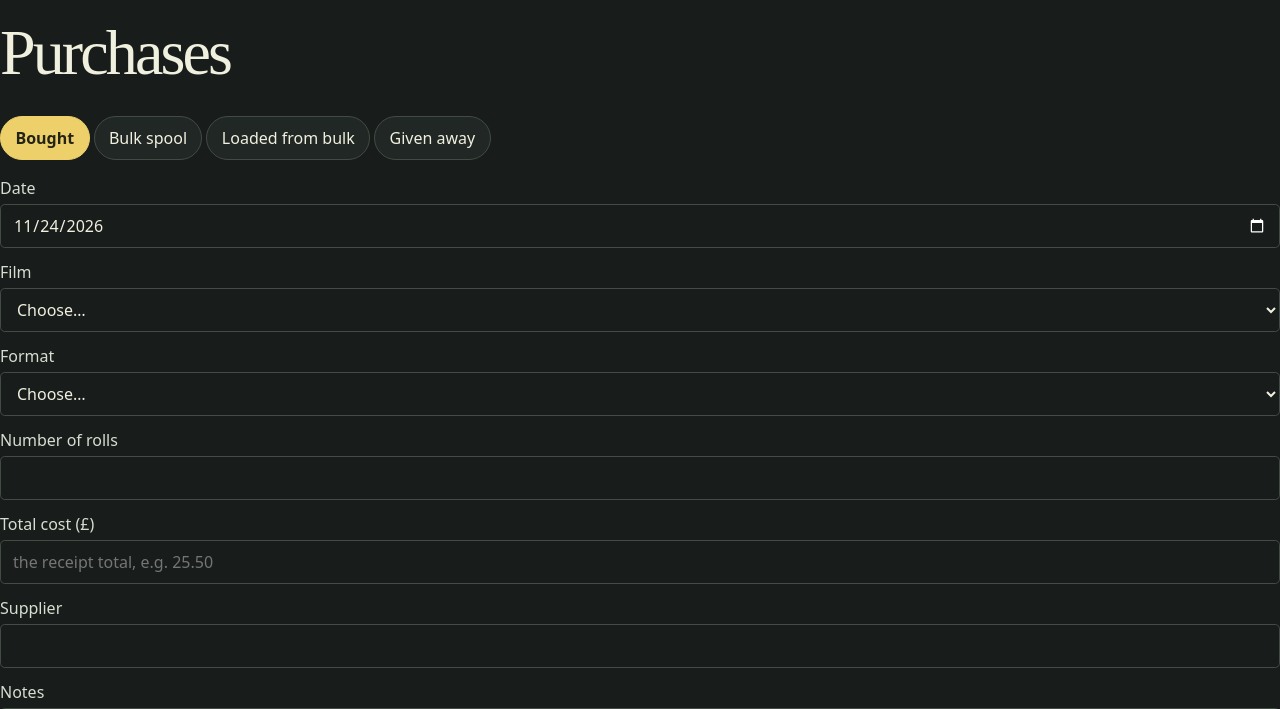
Scenario: an unpriced spool needs no price, but a bad price is refused
Click the tab "Bulk spool" at [148, 138], box [94,116,202,160]
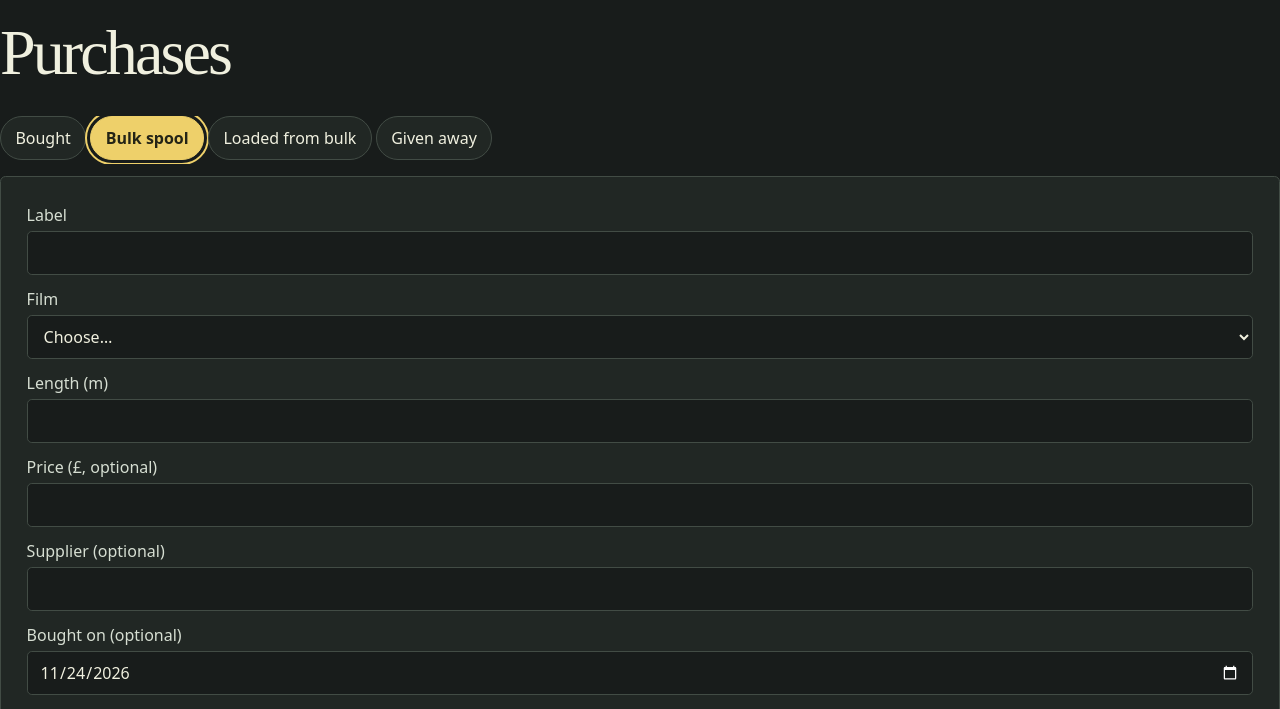
Type "Bulk 3" into the field labelled "Label" at [640, 253], box [27,231,1253,275]
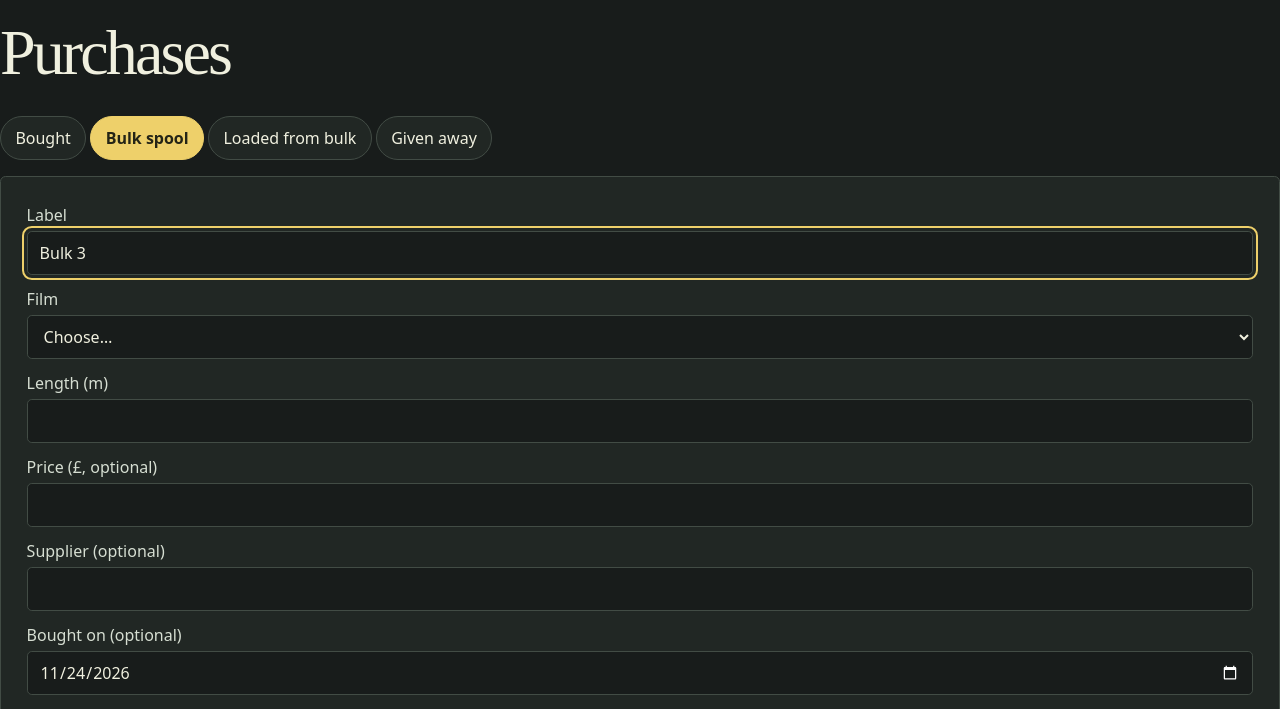
Select "Fomapan 100" in the dropdown labelled "Film" at [640, 337], box [27,315,1253,359]
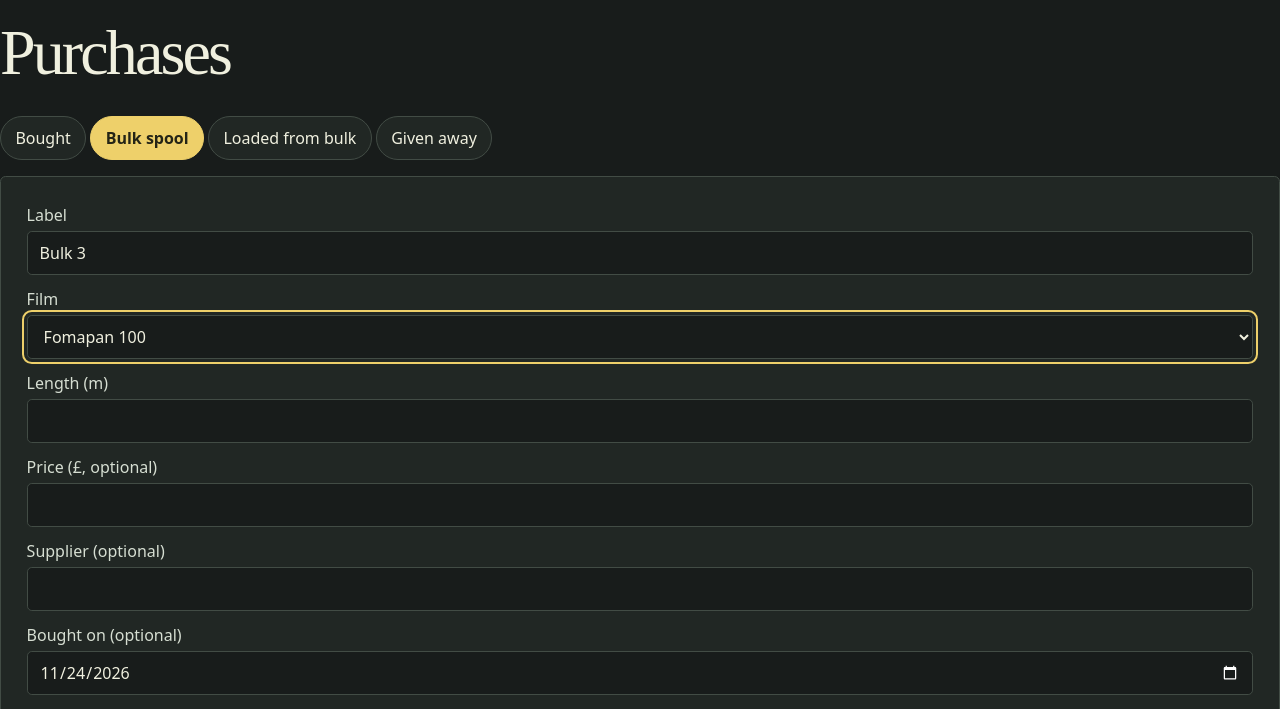
Type "17" into the field labelled "Length (m)" at [640, 421], box [27,399,1253,443]
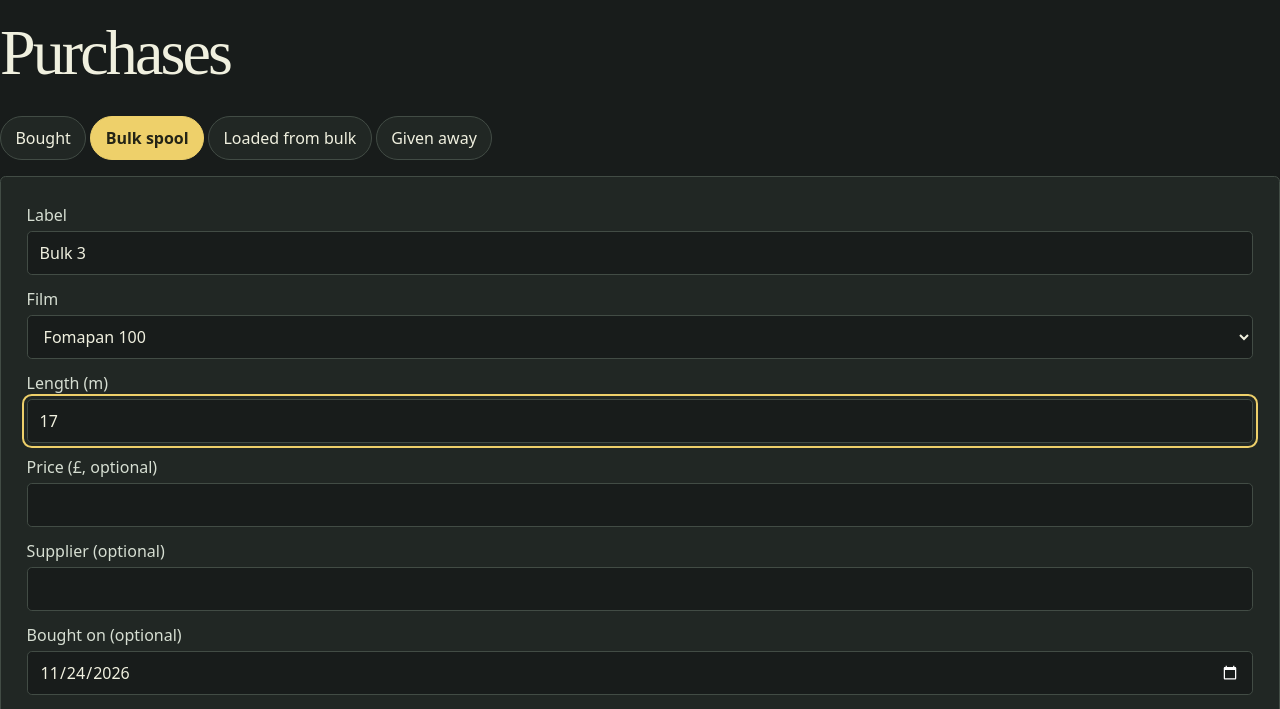
Type "abc" into the field labelled "Price (£, optional)" at [640, 505], box [27,483,1253,527]
(page scrolled)
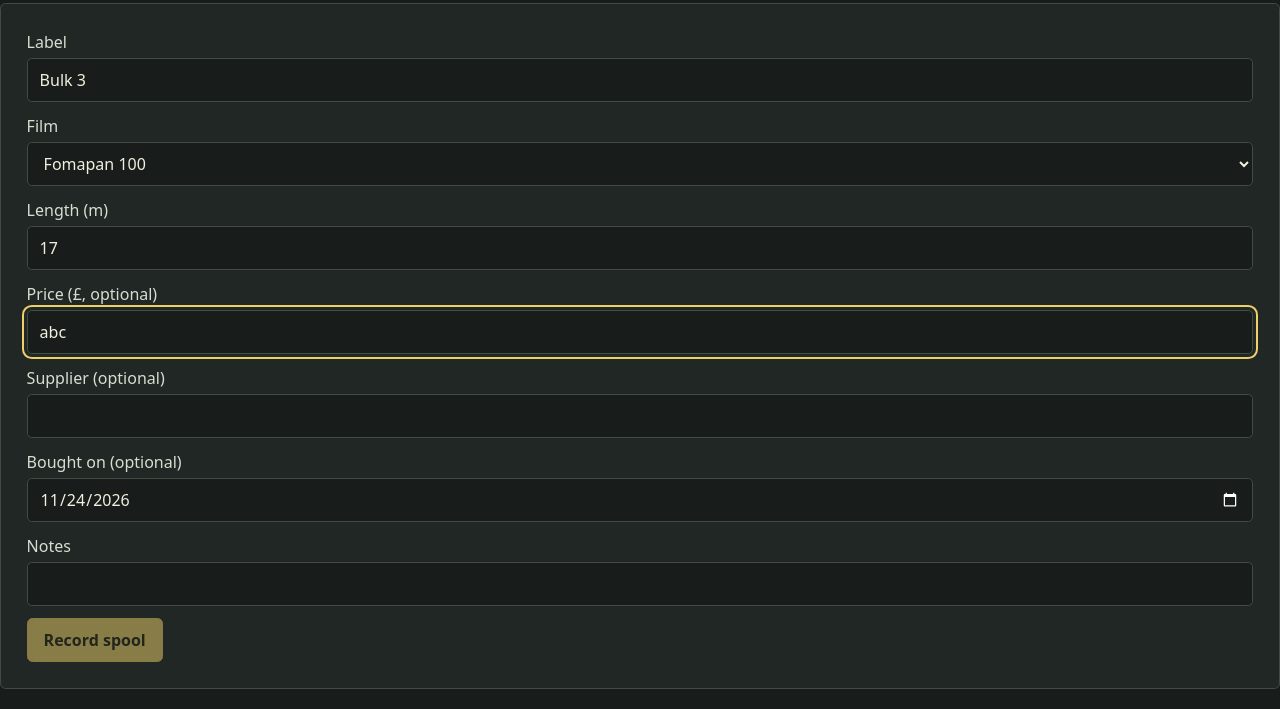
Result: the button "Record spool" is disabled at [27,618,163,662]
